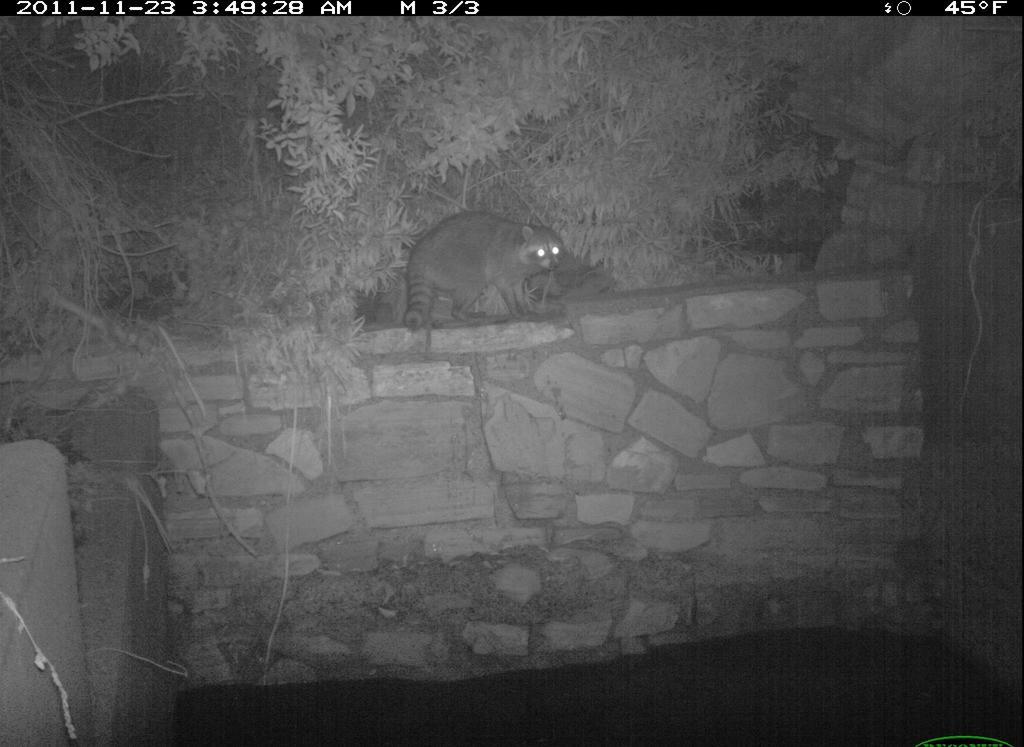raccoon: (386, 194, 609, 377)
